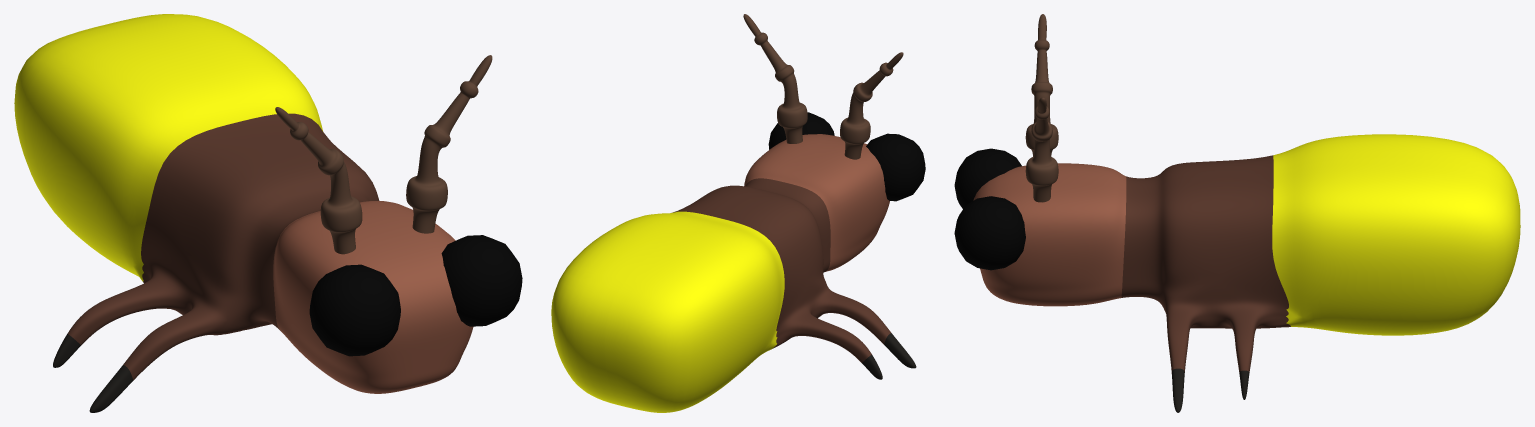
File: swirtlik.fbx
The picture shows the model from 3 angles, left to right: view 1: azimuth 30°, elevation 25°; view 2: azimuth 150°, elevation 25°; view 3: azimuth 270°, elevation 25°; orthographic projection. The views are drawn at different scales.
Visible parts, largest first — view 1: Cube.001; view 2: Cube.001; view 3: Cube.001.
Part boxes in pixels (box(x1,y1,x2,y2)): Cube.001: box(14, 14, 522, 412); Cube.001: box(551, 14, 925, 412); Cube.001: box(954, 14, 1520, 412).
Size of the model in its own units: 232 by 182 by 338.
